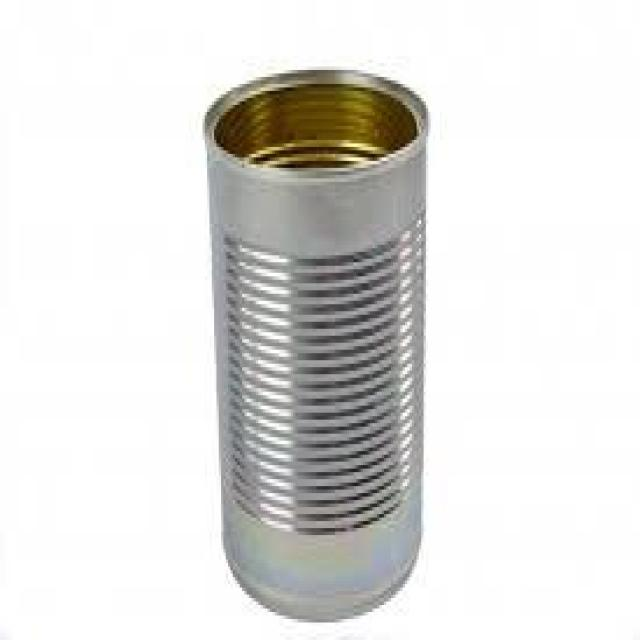-Recyclables - can-: (200, 67, 427, 624)
